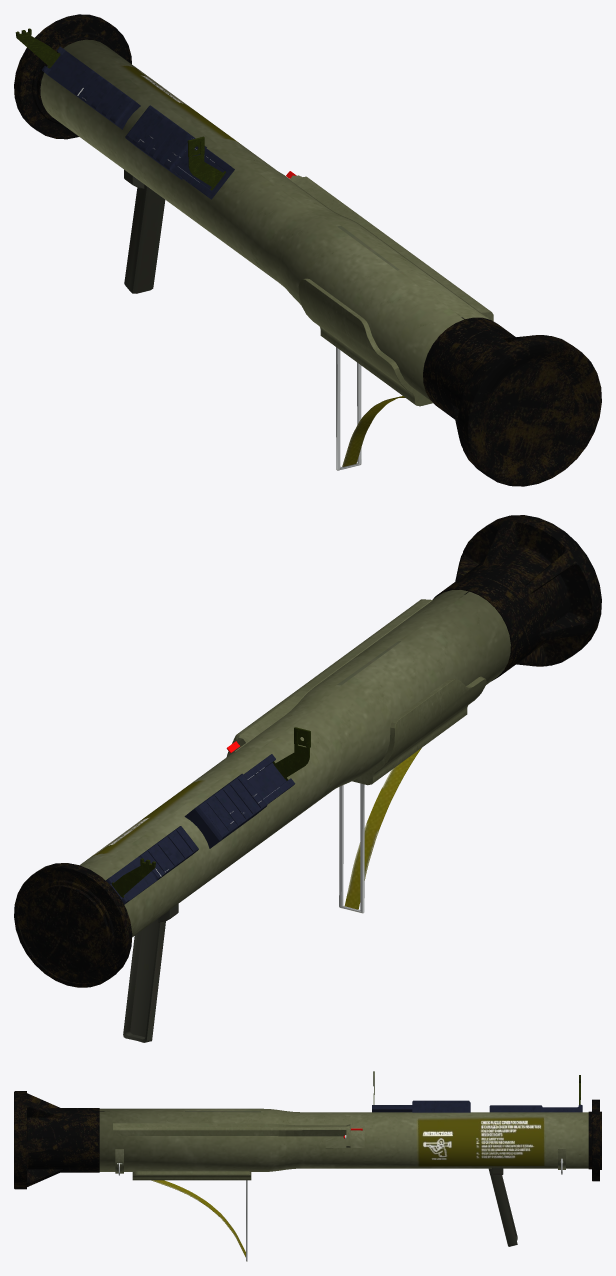
3 renders of one model, top to bottom at view 1: azimuth 30°, elevation 25°; view 2: azimuth 150°, elevation 25°; view 3: azimuth 270°, elevation 25°, orthographic. The views are drawn at different scales.
Parts seen in each view (by area): view 1: m136_body; view 2: m136_body; view 3: m136_body.
Boxes of the visible parts, x1,y1,x2,y2 form: m136_body: [14, 14, 601, 486]; m136_body: [14, 515, 601, 1042]; m136_body: [14, 1071, 601, 1261].
Bounding box in the file's own units: 0.1729 × 0.3228 × 1.02.
Materials: 1 (1 with a texture image).
